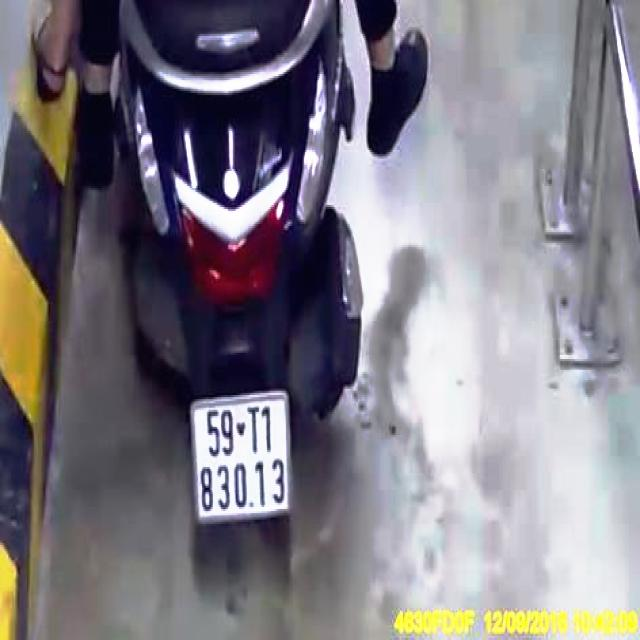license_plate: (196, 397, 288, 516)
